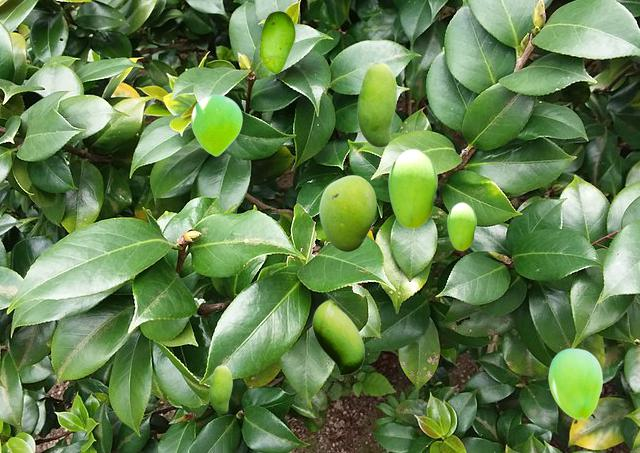green_mango: (319, 175, 375, 250), (312, 299, 363, 374), (388, 148, 436, 227), (548, 348, 601, 418), (357, 62, 396, 146), (191, 94, 241, 155), (259, 11, 294, 72), (447, 202, 475, 249), (209, 365, 231, 412)
